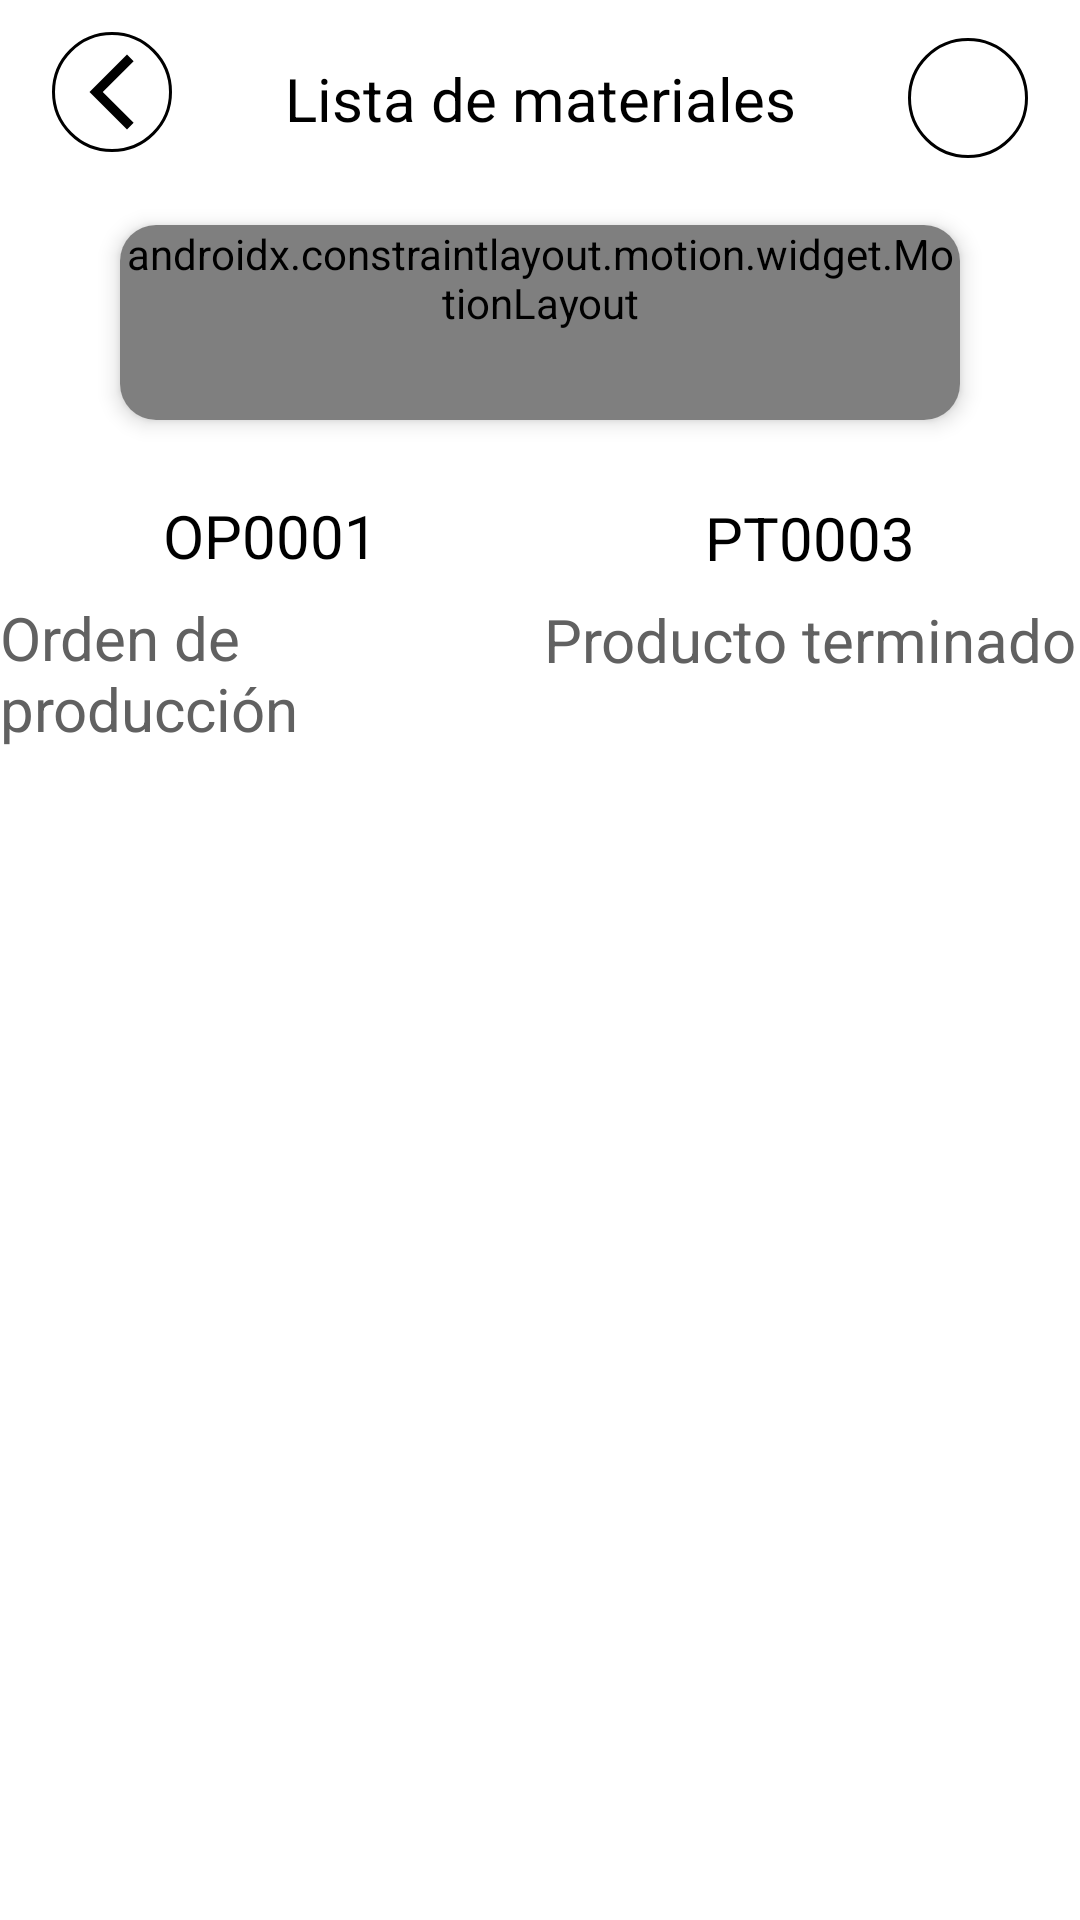

Locate icon controls on the screen. Image size 1080px×1920px, boxes as (left=x1, top=y1, right=x2, bottom=y2).
back: (left=52, top=32, right=172, bottom=152)
